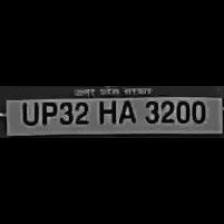0: (190, 98, 208, 124), (173, 99, 189, 123)
2: (71, 99, 91, 125), (158, 98, 174, 124)
3: (141, 98, 159, 124), (56, 99, 72, 125)
A: (116, 98, 138, 124)
H: (94, 98, 116, 124)
P: (38, 100, 56, 124)
U: (17, 100, 39, 126)
